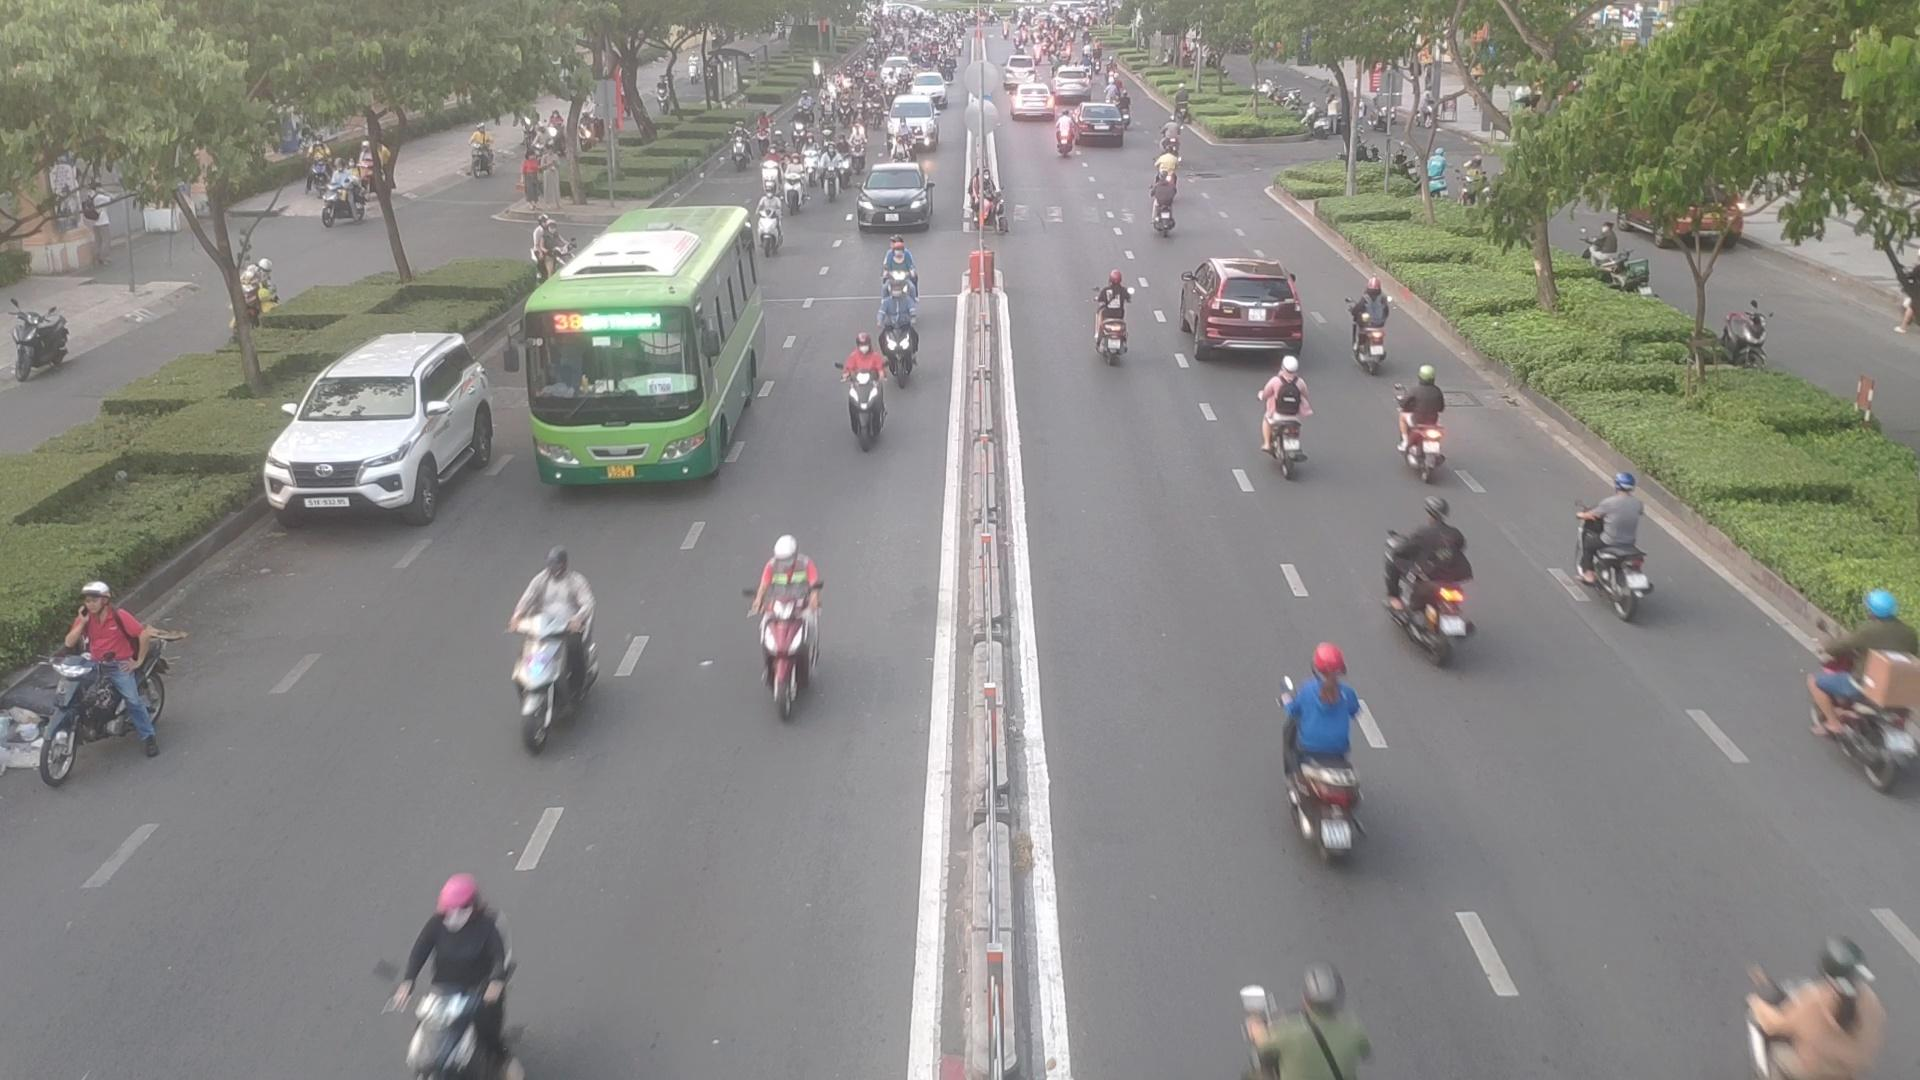bus: (512, 218, 771, 492)
car: (265, 332, 513, 527), (1185, 258, 1311, 367), (855, 162, 939, 233)
motorbike: (18, 584, 169, 777), (375, 878, 513, 1077), (1741, 935, 1909, 1080), (1799, 604, 1920, 791), (1270, 667, 1379, 856), (506, 556, 618, 738), (748, 538, 833, 709), (1396, 516, 1485, 663), (1577, 477, 1665, 616), (1255, 364, 1319, 475), (1398, 368, 1461, 473), (835, 330, 884, 448), (1340, 286, 1396, 380), (877, 266, 920, 382), (1084, 270, 1134, 363), (1145, 164, 1182, 239)
